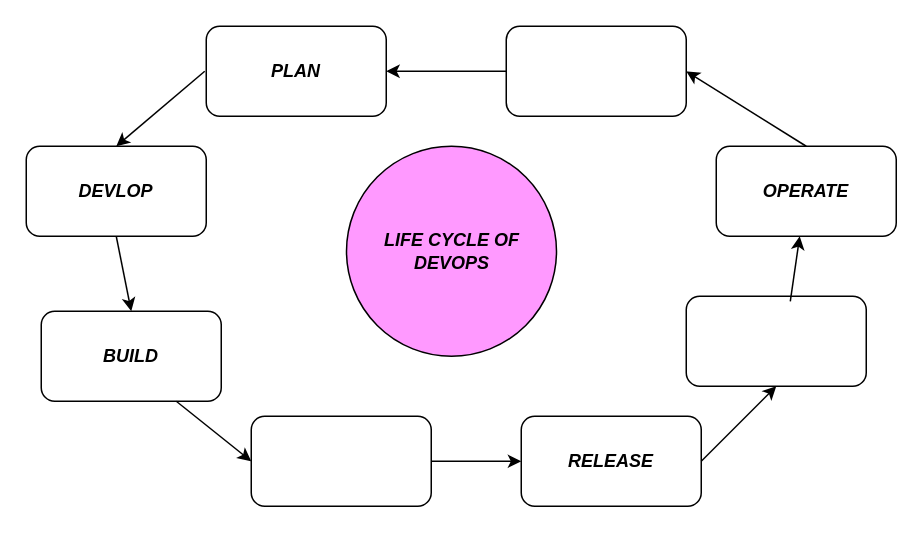
This 923x533 diagram has some shape labels left out. The centre of each missing label's shape, as x and y in pixels:
"DEPLOY" belongs at pixel 775 340.
"MONITOR" belongs at pixel 595 70.
"TEST" belongs at pixel 340 460.
